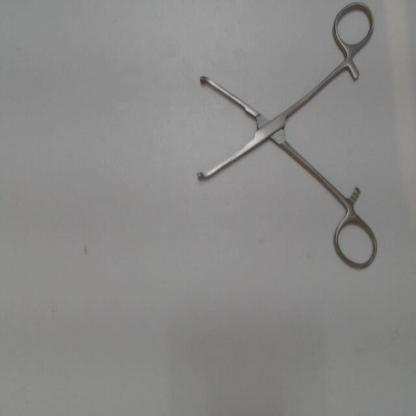Allis Tissue Forceps: (194, 1, 384, 276)
